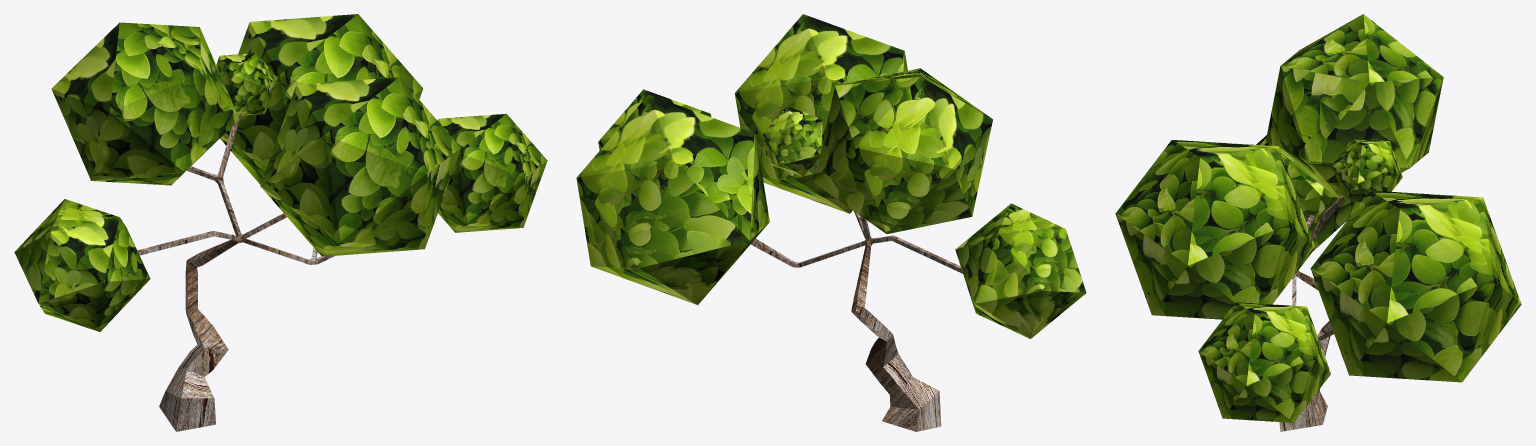
The model's file is Trees3.fbx.
The picture shows the model from 3 angles, left to right: view 1: azimuth 30°, elevation 25°; view 2: azimuth 150°, elevation 25°; view 3: azimuth 270°, elevation 25°; orthographic projection. The views are drawn at different scales.
Visible parts, largest first — view 1: Icosphere.015; view 2: Icosphere.015; view 3: Icosphere.015.
Boxes of the visible parts, x1,y1,x2,y2 form: Icosphere.015: [14, 14, 547, 431]; Icosphere.015: [576, 14, 1086, 431]; Icosphere.015: [1115, 14, 1521, 431].
Size of the model in its own units: 7139 by 5318 by 5012.
